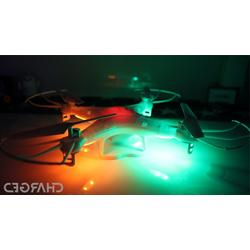drone: (7, 86, 249, 169)
